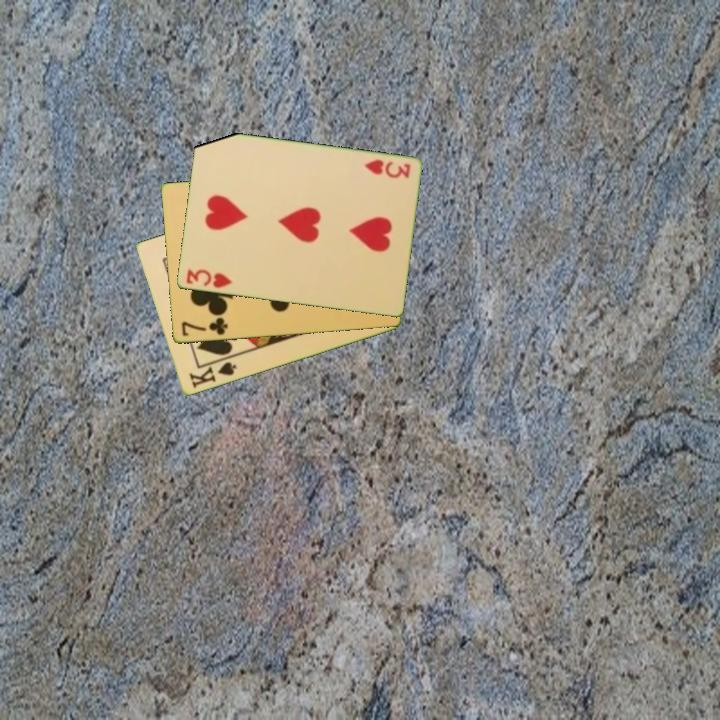3h: (182, 266, 235, 291), (360, 156, 413, 181)
7c: (177, 314, 230, 339)
Ks: (185, 354, 239, 392)
